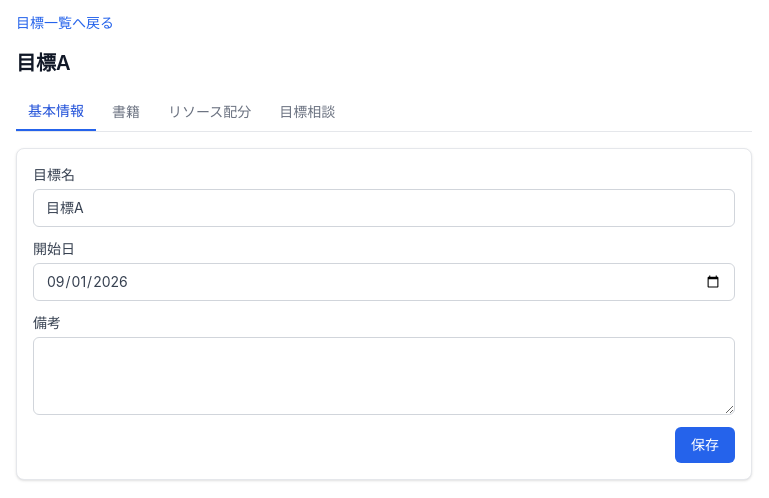
Test: GoalDetailPage の種別ごとのタブ構成 › renders the resource allocation tab content for a reading goal
Expected: the heading "目標A" is shown, [16, 49, 71, 77]
What coordinates should you click on to do the following:
click the button "リソース配分"
I would click on:
 (210, 112)
Its box is [156, 93, 263, 131].
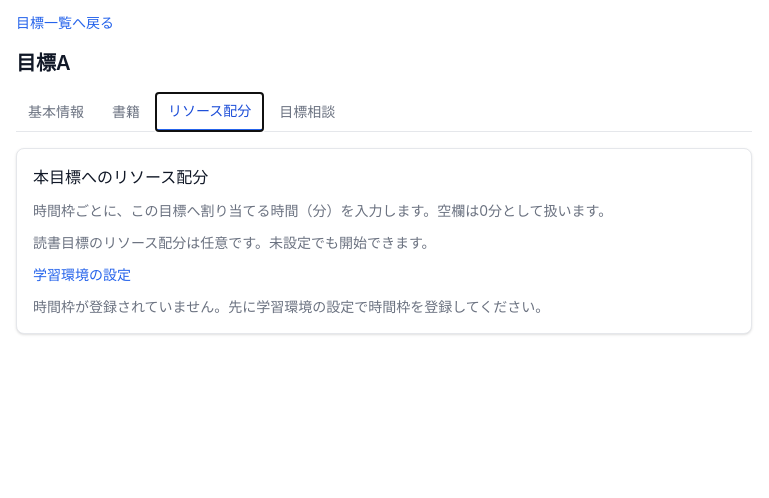
Expected: the text "読書目標のリソース配分は任意です。未設定でも開始できます。" is shown, [33, 234, 436, 251]
